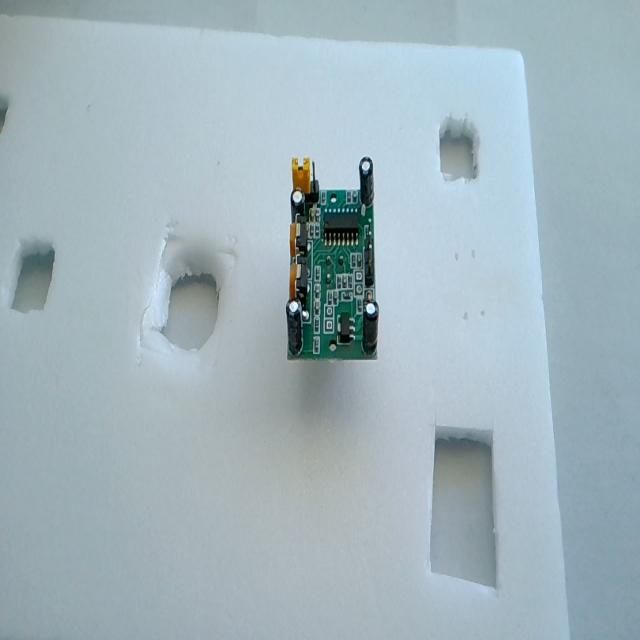Electrolytic capacitor: (282, 302, 306, 364), (363, 299, 381, 358), (358, 156, 376, 212)
IC: (321, 208, 361, 253)
